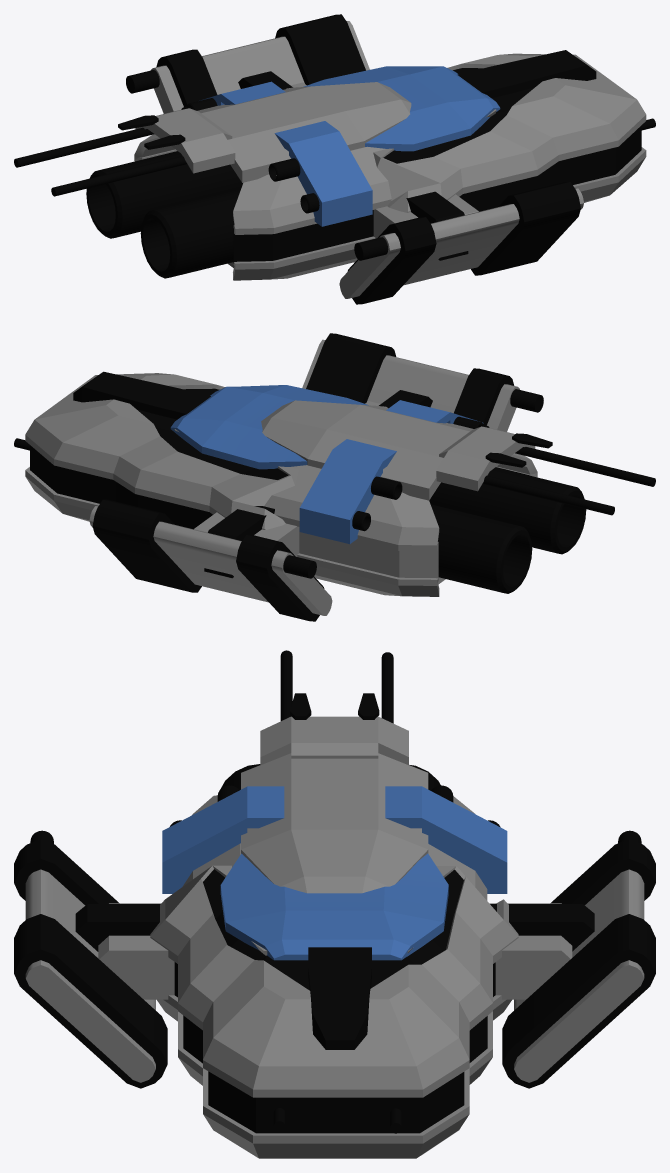
File: HumanShipA.fbx
The picture shows the model from 3 angles, top to bottom: view 1: azimuth 30°, elevation 25°; view 2: azimuth 150°, elevation 25°; view 3: azimuth 270°, elevation 25°; orthographic projection. The views are drawn at different scales.
Visible parts, largest first — view 1: HumanShipA; view 2: HumanShipA; view 3: HumanShipA.
Boxes of the visible parts, bbox=[...] form: HumanShipA: bbox=[14, 14, 655, 304]; HumanShipA: bbox=[14, 333, 655, 621]; HumanShipA: bbox=[14, 650, 655, 1158].
Bounding box in the file's own units: 6.56 × 1.59 × 4.73.
